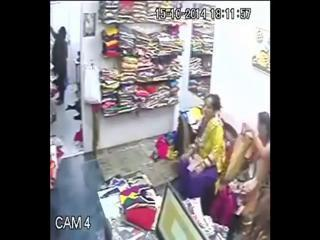Normal: (175, 94, 228, 212)
